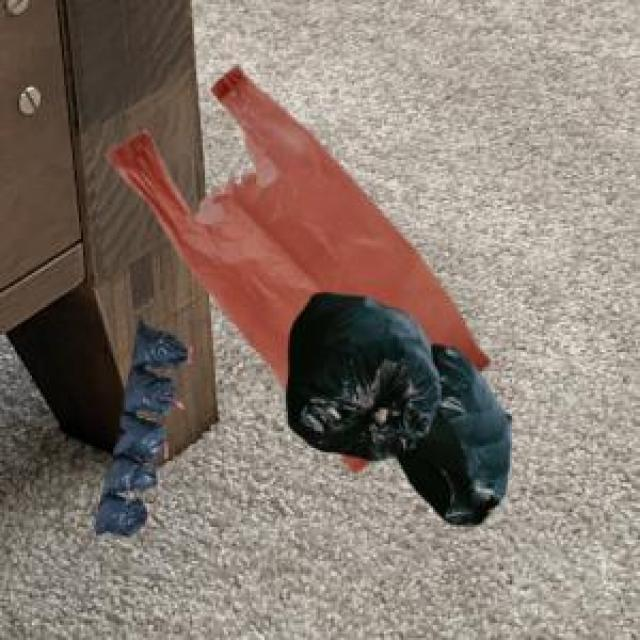miscellaneous trash: (282, 288, 508, 523), (92, 314, 186, 533)
